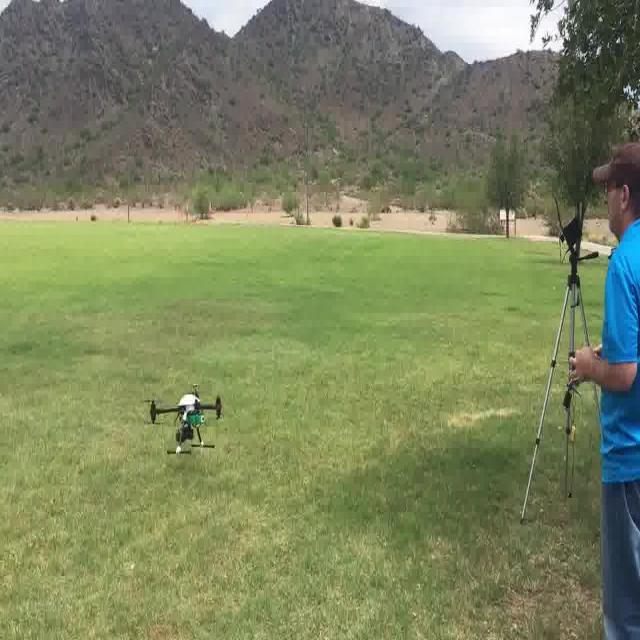drone: (143, 382, 222, 456)
